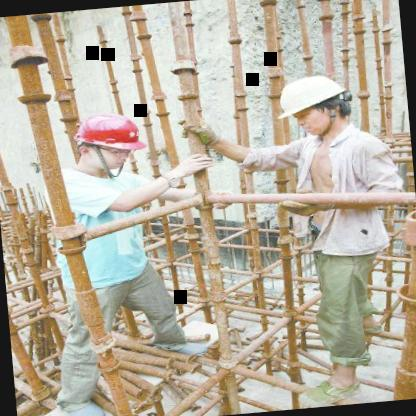helmet: (270, 66, 360, 144), (65, 100, 150, 177)
